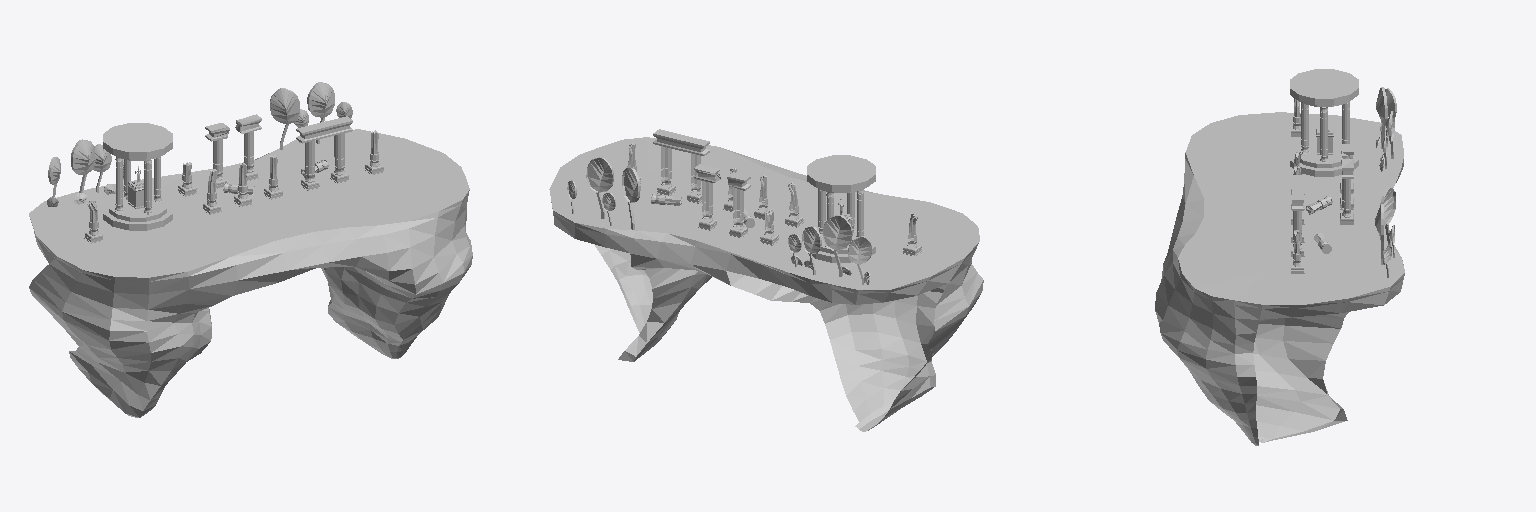
The model's file is map_Rome_allege.obj.
The picture shows the model from 3 angles: view 1: azimuth 30°, elevation 25°; view 2: azimuth 150°, elevation 25°; view 3: azimuth 270°, elevation 25°; orthographic projection.
Size of the model in its own units: 13.06 by 7.9 by 7.16.